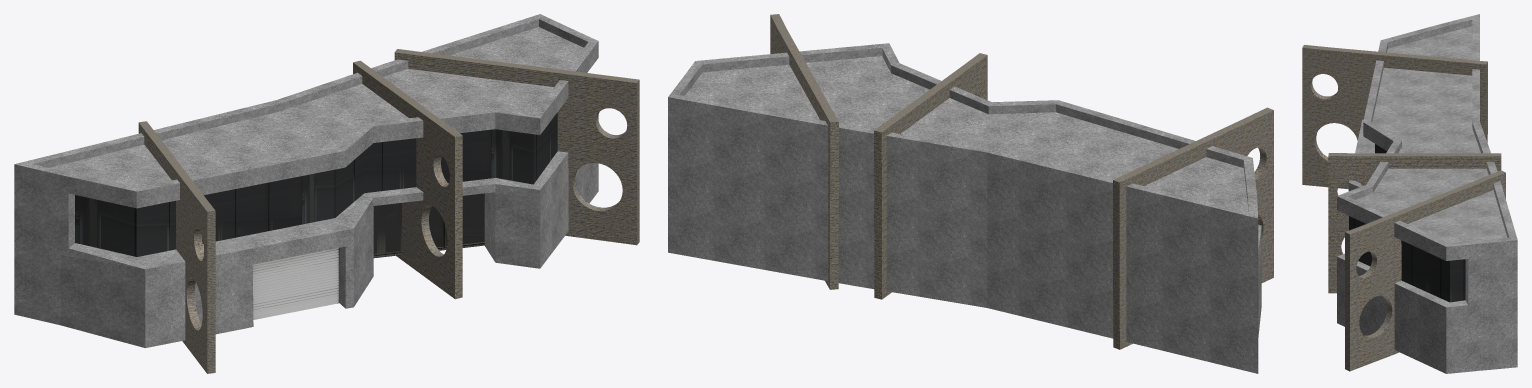
Rendered from house10c.fbx.
3 views of the same model, side by side, from view 1: azimuth 30°, elevation 25°; view 2: azimuth 150°, elevation 25°; view 3: azimuth 270°, elevation 25° (orthographic). The views are drawn at different scales.
Parts seen in each view (by area): view 1: RES_H10c_2638.Shape; view 2: RES_H10c_2638.Shape; view 3: RES_H10c_2638.Shape.
Part boxes in pixels (x1=…): RES_H10c_2638.Shape: x1=14, y1=14, x2=639, y2=373; RES_H10c_2638.Shape: x1=668, y1=14, x2=1273, y2=373; RES_H10c_2638.Shape: x1=1302, y1=14, x2=1517, y2=373.
Bounding box in the file's own units: 2347 × 645 × 918.
Materials: 4 (4 with a texture image).
